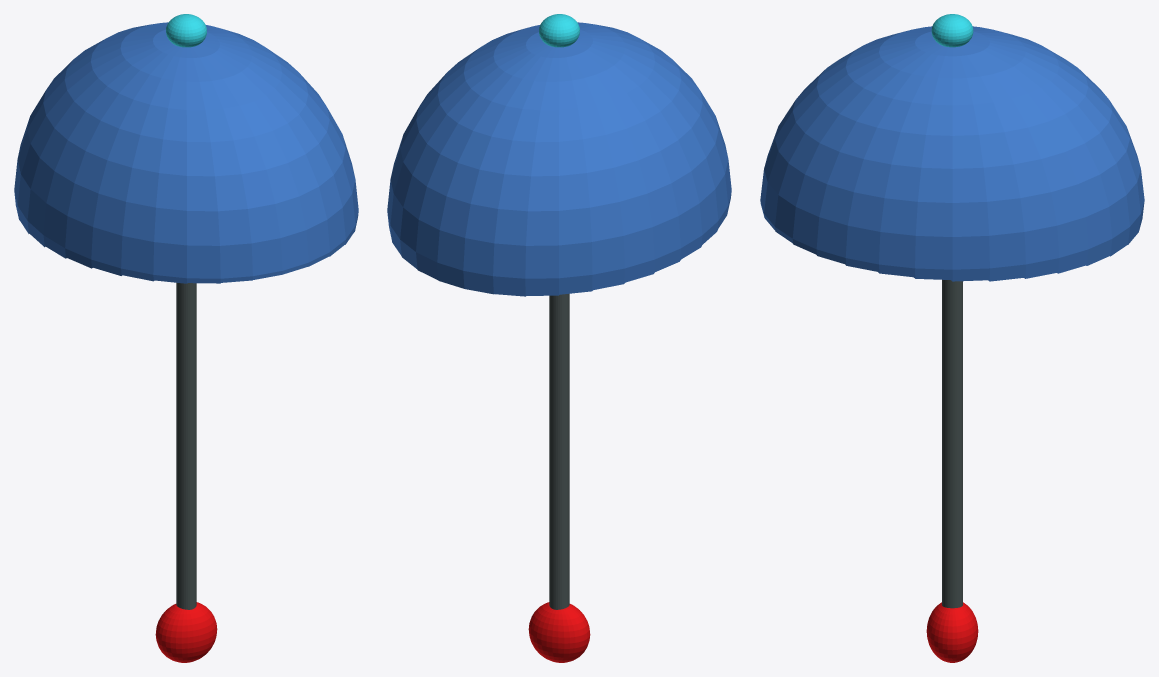
File: Umbrella.gltf
The picture shows the model from 3 angles, left to right: view 1: azimuth 30°, elevation 25°; view 2: azimuth 150°, elevation 25°; view 3: azimuth 270°, elevation 25°; orthographic projection.
Visible parts, largest first — view 1: Sphere; view 2: Sphere; view 3: Sphere.
Boxes of the visible parts, x1,y1,x2,y2 form: Sphere: (14, 14, 358, 662); Sphere: (387, 14, 731, 662); Sphere: (760, 14, 1144, 662).
Size of the model in its own units: 12.52 by 26.96 by 14.59.
